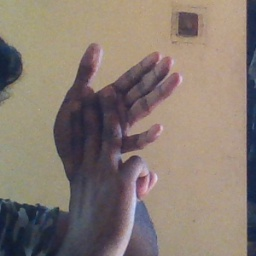M: (48, 40, 188, 220)
